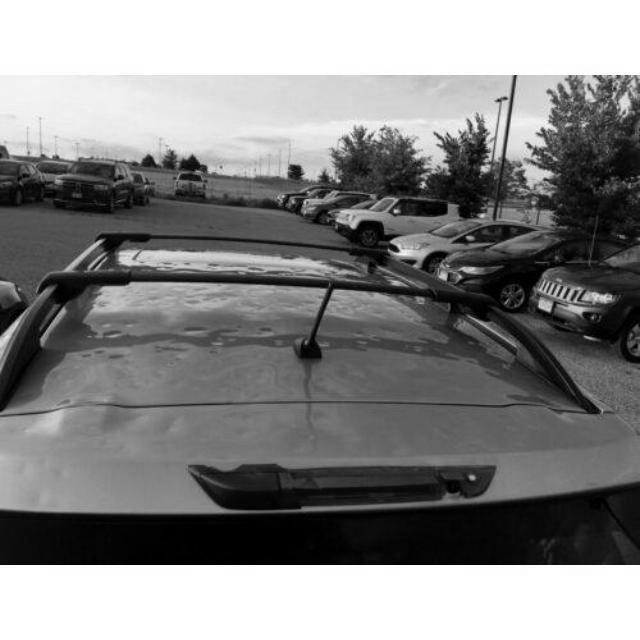roof-dent: (82, 256, 423, 506)
